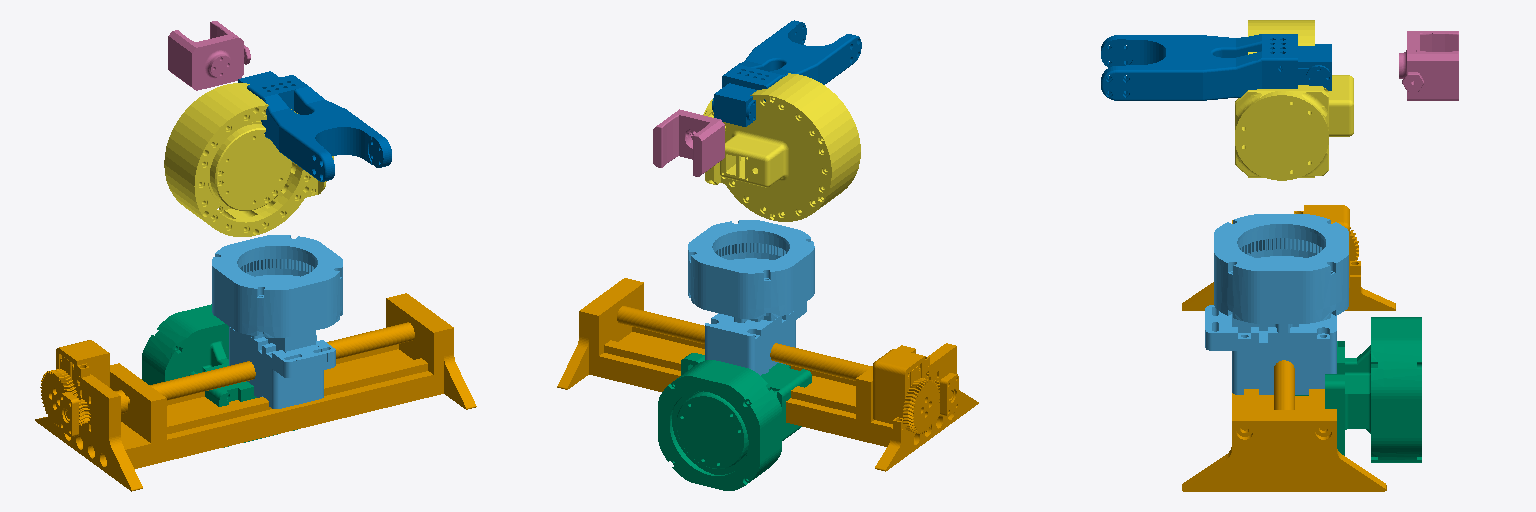
URDF robot description (robot):
<?xml version="1.0" encoding="UTF-8"?>
<robot name="robot">
  <link name="base_link">
    <visual>
      <origin xyz="0 0 0" rpy="0 0 0"/>
      <geometry>
        <mesh filename="../../meshes/v1/base_link.stl"/>
      </geometry>
    </visual>
    <collision>
      <origin xyz="0 0 0" rpy="0 0 0"/>
      <geometry>
        <mesh filename="../../meshes/v1/base_link.stl"/>
      </geometry>
    </collision>
  </link>
  <link name="Link_1">
    <visual>
      <origin xyz="0 0 0" rpy="0 0 0"/>
      <geometry>
        <mesh filename="../../meshes/v1/Link_1.stl"/>
      </geometry>
    </visual>
    <collision>
      <origin xyz="0 0 0" rpy="0 0 0"/>
      <geometry>
        <mesh filename="../../meshes/v1/Link_1.stl"/>
      </geometry>
    </collision>
  </link>
  <link name="Link_2">
    <visual>
      <origin xyz="0 0 0" rpy="0 0 0"/>
      <geometry>
        <mesh filename="../../meshes/v1/Link_2.stl"/>
      </geometry>
    </visual>
    <collision>
      <origin xyz="0 0 0" rpy="0 0 0"/>
      <geometry>
        <mesh filename="../../meshes/v1/Link_2.stl"/>
      </geometry>
    </collision>
  </link>
  <link name="Link_3">
    <visual>
      <origin xyz="0 0 0" rpy="0 0 0"/>
      <geometry>
        <mesh filename="../../meshes/v1/Link_3.stl"/>
      </geometry>
    </visual>
    <collision>
      <origin xyz="0 0 0" rpy="0 0 0"/>
      <geometry>
        <mesh filename="../../meshes/v1/Link_3.stl"/>
      </geometry>
    </collision>
  </link>
  <link name="Link_4">
    <visual>
      <origin xyz="0 0 0" rpy="0 0 0"/>
      <geometry>
        <mesh filename="../../meshes/v1/Link_4.stl"/>
      </geometry>
    </visual>
    <collision>
      <origin xyz="0 0 0" rpy="0 0 0"/>
      <geometry>
        <mesh filename="../../meshes/v1/Link_4.stl"/>
      </geometry>
    </collision>
  </link>
  <link name="Link_5">
    <visual>
      <origin xyz="0 0 0" rpy="0 0 0"/>
      <geometry>
        <mesh filename="../../meshes/v1/Link_5.stl"/>
      </geometry>
    </visual>
    <collision>
      <origin xyz="0 0 0" rpy="0 0 0"/>
      <geometry>
        <mesh filename="../../meshes/v1/Link_5.stl"/>
      </geometry>
    </collision>
  </link>
  <link name="Link_6">
    <visual>
      <origin xyz="0 0 0" rpy="0 0 0"/>
      <geometry>
        <mesh filename="../../meshes/v1/Link_6.stl"/>
      </geometry>
    </visual>
    <collision>
      <origin xyz="0 0 0" rpy="0 0 0"/>
      <geometry>
        <mesh filename="../../meshes/v1/Link_6.stl"/>
      </geometry>
    </collision>
  </link>
  <joint name="J10" type="prismatic">
    <parent link="base_link"/>
    <child link="Link_1"/>
    <origin xyz="-0.00000505 -0.005287 0.0922507" rpy="3.14159265 0 3.14159265"/>
    <axis xyz="0 0 1"/>
    <limit lower="-0.1" upper="0.1" effort="100" velocity="0.1"/>
  </joint>
  <joint name="J11" type="revolute">
    <parent link="Link_1"/>
    <child link="Link_2"/>
    <origin xyz="0 0 0" rpy="0 0 0"/>
    <axis xyz="0 0 1"/>
    <limit lower="-3.14159" upper="3.14159" effort="10" velocity="1"/>
  </joint>
  <joint name="J12" type="revolute">
    <parent link="Link_2"/>
    <child link="Link_3"/>
    <origin xyz="-0.031005 3e-8 -0.10690639" rpy="-1.57079633 0 -1.57079633"/>
    <axis xyz="0 0 1"/>
    <limit lower="-3.14159" upper="3.14159" effort="10" velocity="1"/>
  </joint>
  <joint name="J13" type="revolute">
    <parent link="Link_3"/>
    <child link="Link_4"/>
    <origin xyz="0.12501147 0.043 0.062" rpy="-3.14159265 0 3.14159265"/>
    <axis xyz="0 0 -1"/>
    <limit lower="-3.14159" upper="3.14159" effort="10" velocity="1"/>
  </joint>
  <joint name="J14" type="revolute">
    <parent link="Link_4"/>
    <child link="Link_5"/>
    <origin xyz="0.153 0.000075 0.011775" rpy="-3.14159265 0 3.14159265"/>
    <axis xyz="0 0 -1"/>
    <limit lower="-3.14159" upper="3.14159" effort="10" velocity="1"/>
  </joint>
  <joint name="J15" type="revolute">
    <parent link="Link_5"/>
    <child link="Link_6"/>
    <origin xyz="-0.067125 0.00002501 -0.015925" rpy="-1.57079633 0 1.57079618"/>
    <axis xyz="0 0 1"/>
    <limit lower="-3.14159" upper="3.14159" effort="10" velocity="1"/>
  </joint>
</robot>

--- Facts derived from the render (not from the file) ---
3 views of the same robot in one strip: view 1: azimuth 30°, elevation 25°; view 2: azimuth 150°, elevation 25°; view 3: azimuth 270°, elevation 25° (orthographic).
Model robot with 7 links and 6 joints (5 revolute, 1 prismatic), rooted at base_link, posed every joint at zero.
Links seen in each view (by area): view 1: base_link, Link_1, Link_3, Link_4, Link_2, Link_6; view 2: base_link, Link_3, Link_1, Link_2, Link_4, Link_6; view 3: Link_1, base_link, Link_4, Link_3, Link_2, Link_6.
Link boxes in pixels (left/top/right/bottom): base_link: left=35, top=293, right=476, bottom=491; Link_1: left=212, top=235, right=342, bottom=408; Link_3: left=164, top=83, right=333, bottom=236; Link_4: left=238, top=71, right=391, bottom=181; Link_2: left=142, top=304, right=297, bottom=447; Link_6: left=168, top=21, right=250, bottom=90; base_link: left=557, top=278, right=978, bottom=471; Link_3: left=703, top=73, right=860, bottom=221; Link_1: left=688, top=220, right=814, bottom=375; Link_2: left=658, top=353, right=811, bottom=490; Link_4: left=712, top=20, right=861, bottom=126; Link_6: left=653, top=109, right=724, bottom=176; Link_1: left=1205, top=214, right=1348, bottom=394; base_link: left=1182, top=205, right=1395, bottom=491; Link_4: left=1101, top=34, right=1331, bottom=100; Link_3: left=1235, top=20, right=1353, bottom=180; Link_2: left=1295, top=317, right=1421, bottom=462; Link_6: left=1399, top=31, right=1458, bottom=100.
Bounding box of the posed robot: 0.355 × 0.2731 × 0.3515 m (x, y, z).
6 mesh visuals loaded from 7 distinct referenced files (6 binary STL); not drawn: 1 (reference not matched to a file when rendering).
